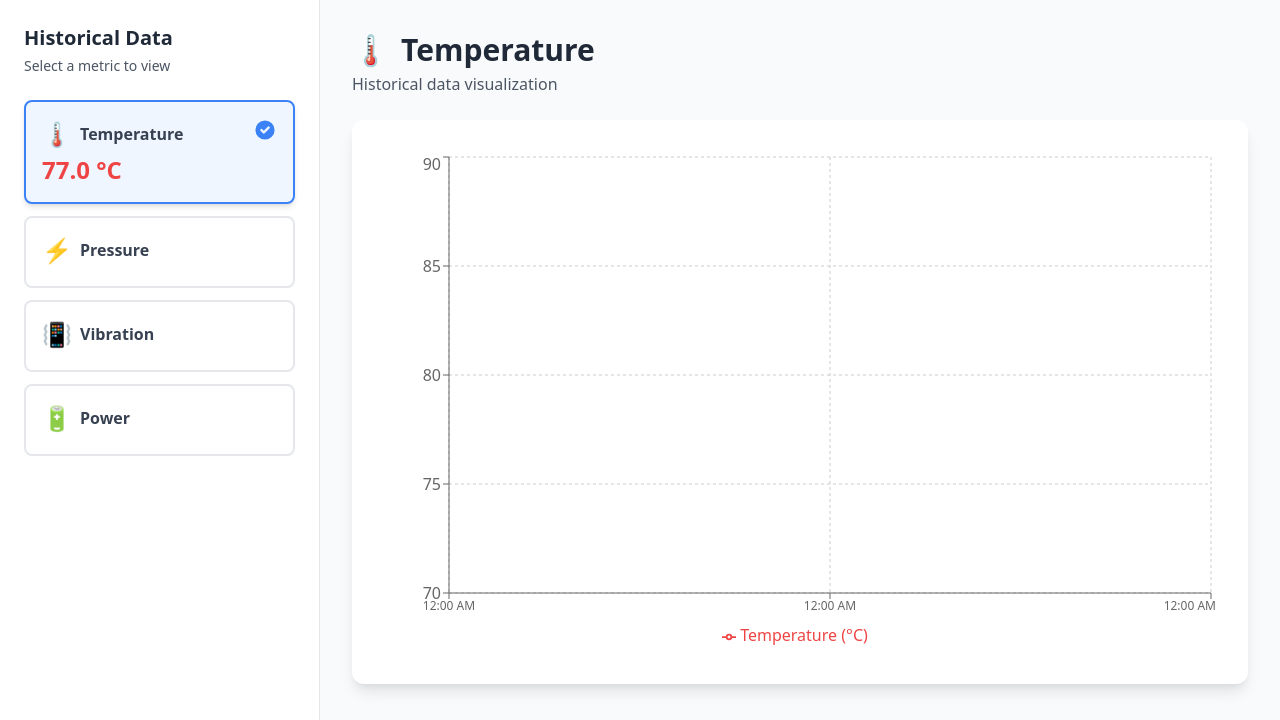
Test: HistoricalDashboard › Chart Display › should update chart when metric changes
Expected: the heading "🌡️ Temperature" is shown, x1=352 y1=29 x2=595 y2=70
# Switch to pressure
Click the button "⚡ Pressure". click: click(115, 250)
box: x1=24 y1=216 x2=295 y2=288
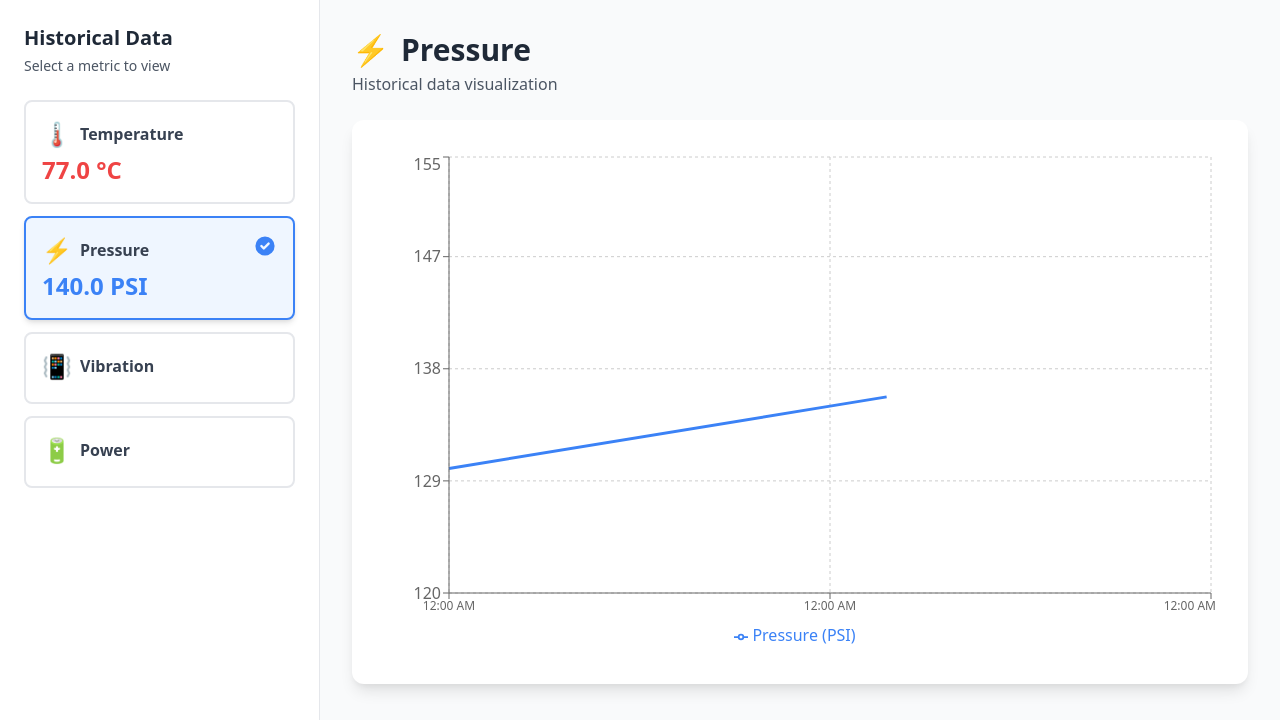
Result: the heading "⚡ Pressure" is shown at x1=352 y1=29 x2=531 y2=70
